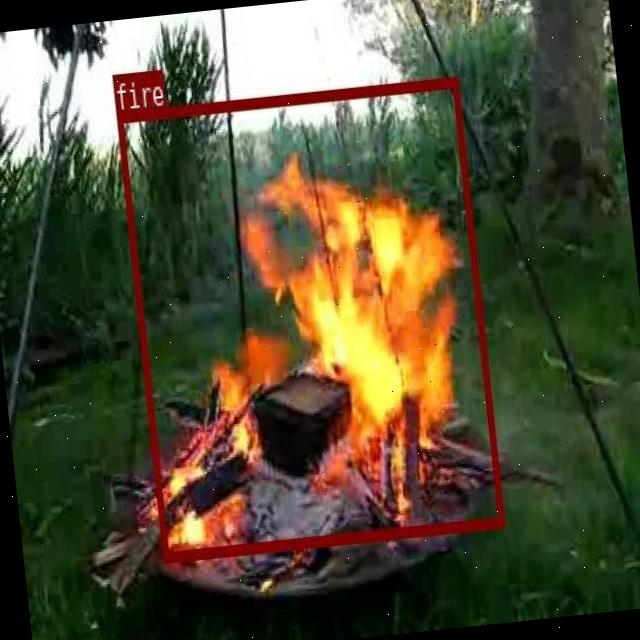fire: (116, 74, 503, 560)
